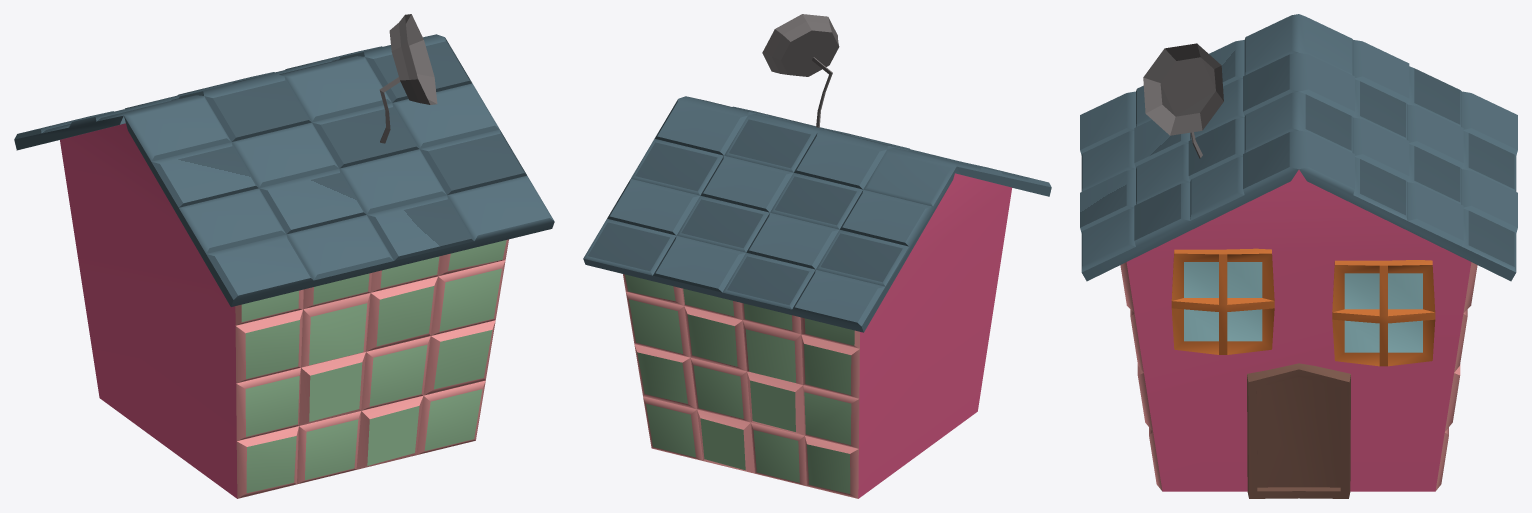
File: casa.glb
3 renders of one model, left to right at view 1: azimuth 30°, elevation 25°; view 2: azimuth 150°, elevation 25°; view 3: azimuth 270°, elevation 25°, orthographic. The views are drawn at different scales.
Visible parts, largest first — view 1: Cube.001, Cube.002; view 2: Cube.001, Cube.002; view 3: Cube.001, Cube.002.
Boxes of the visible parts, box(x1,y1,x2,y2) form: Cube.001: box(14, 34, 554, 498); Cube.002: box(379, 14, 437, 143); Cube.001: box(583, 96, 1051, 498); Cube.002: box(762, 14, 839, 127); Cube.001: box(1080, 14, 1517, 498); Cube.002: box(1143, 43, 1223, 158).
Size of the model in its own units: 5.17 by 6.61 by 6.16.
Materials: 2 (1 with a texture image).
